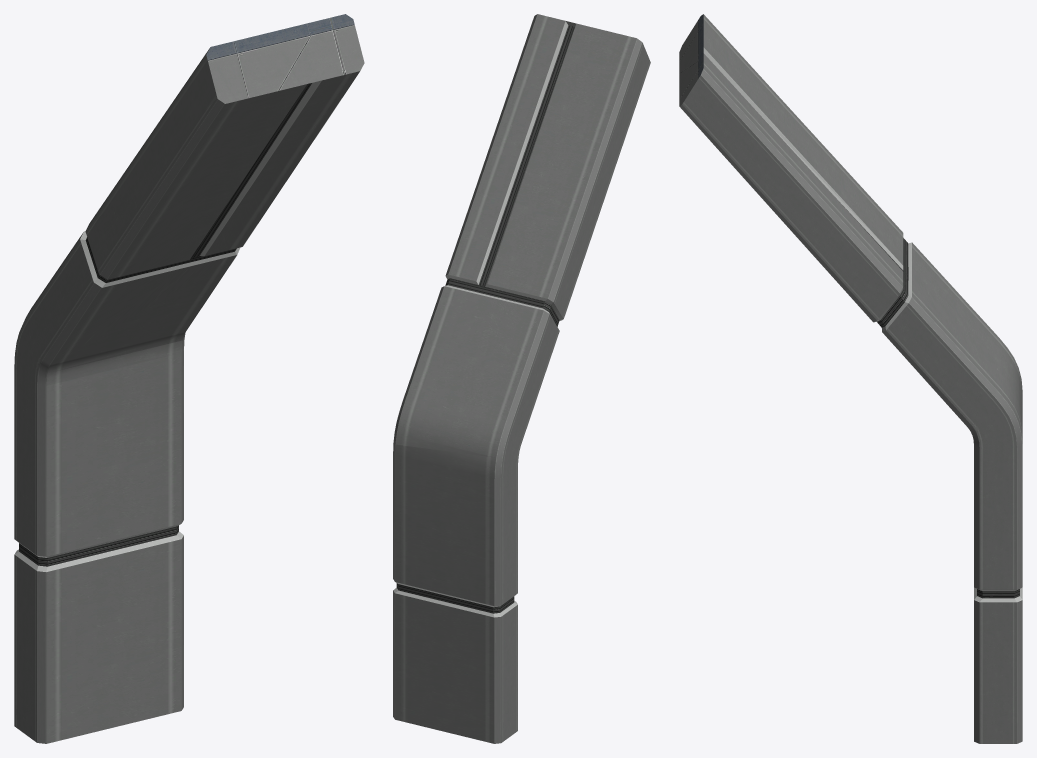
Rendered from Club_ShellPillar_01.FBX.
3 views of the same model, side by side, from view 1: azimuth 30°, elevation 25°; view 2: azimuth 150°, elevation 25°; view 3: azimuth 270°, elevation 25° (orthographic). The views are drawn at different scales.
Visible parts, largest first — view 1: Club_ShellPillar_01; view 2: Club_ShellPillar_01; view 3: Club_ShellPillar_01.
Part boxes in pixels (bbox=[...]): Club_ShellPillar_01: bbox=[14, 14, 364, 743]; Club_ShellPillar_01: bbox=[393, 14, 650, 743]; Club_ShellPillar_01: bbox=[679, 14, 1022, 743].
Bounding box in the file's own units: 5 × 26.56 × 12.27.
